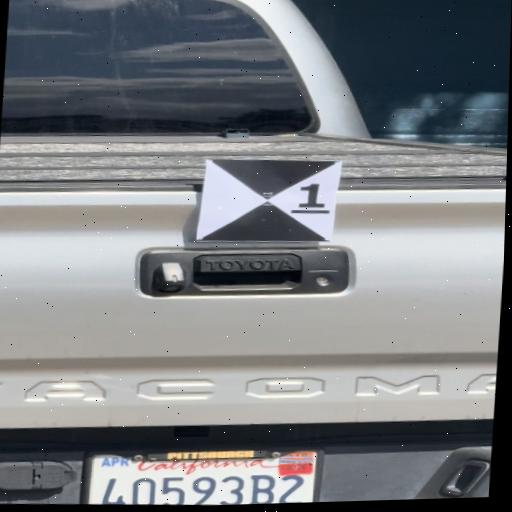target1: (203, 155, 334, 243)
